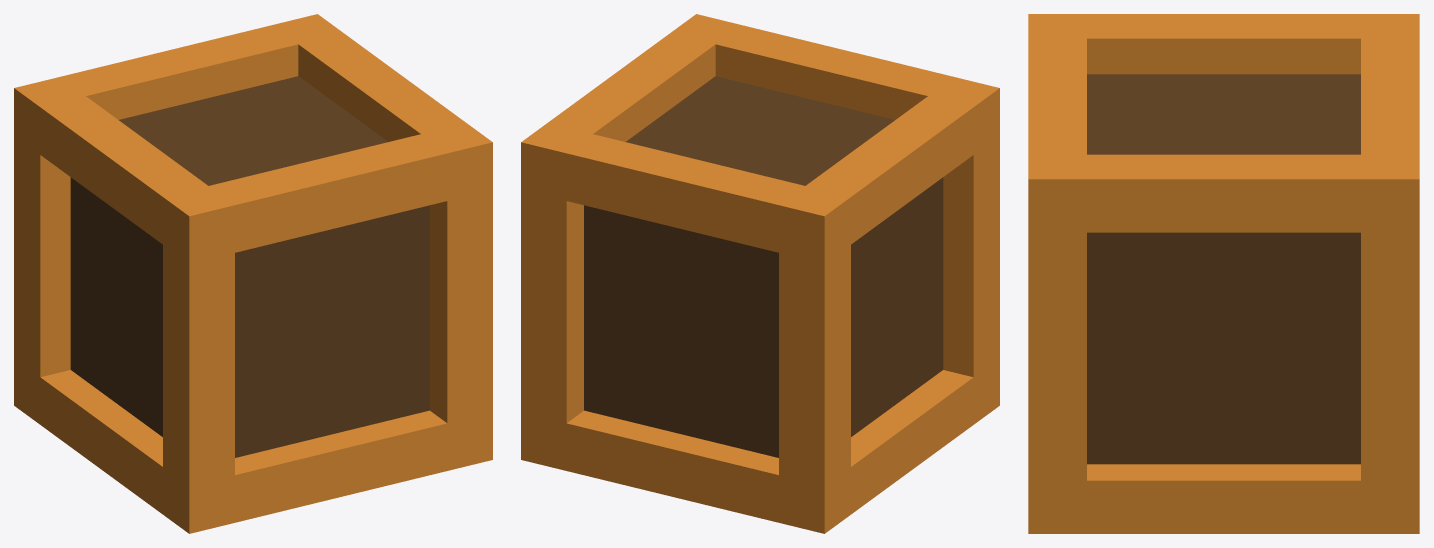
Rendered from Crate.fbx.
The picture shows the model from 3 angles, left to right: view 1: azimuth 30°, elevation 25°; view 2: azimuth 150°, elevation 25°; view 3: azimuth 270°, elevation 25°; orthographic projection. The views are drawn at different scales.
Parts seen in each view (by area): view 1: Cube; view 2: Cube; view 3: Cube.
Part boxes in pixels (bbox=[...]): Cube: bbox=[14, 14, 492, 533]; Cube: bbox=[521, 14, 999, 533]; Cube: bbox=[1028, 14, 1419, 533].
Bounding box in the file's own units: 200 × 200 × 200.
